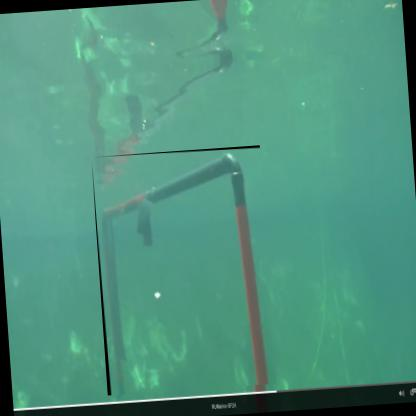gate: (93, 146, 279, 398)
